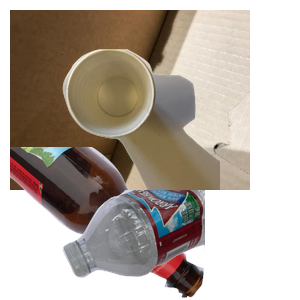cardboard: (10, 10, 250, 190)
glass: (10, 147, 207, 300)
plastic: (60, 190, 300, 280)
trash: (60, 47, 300, 227)
